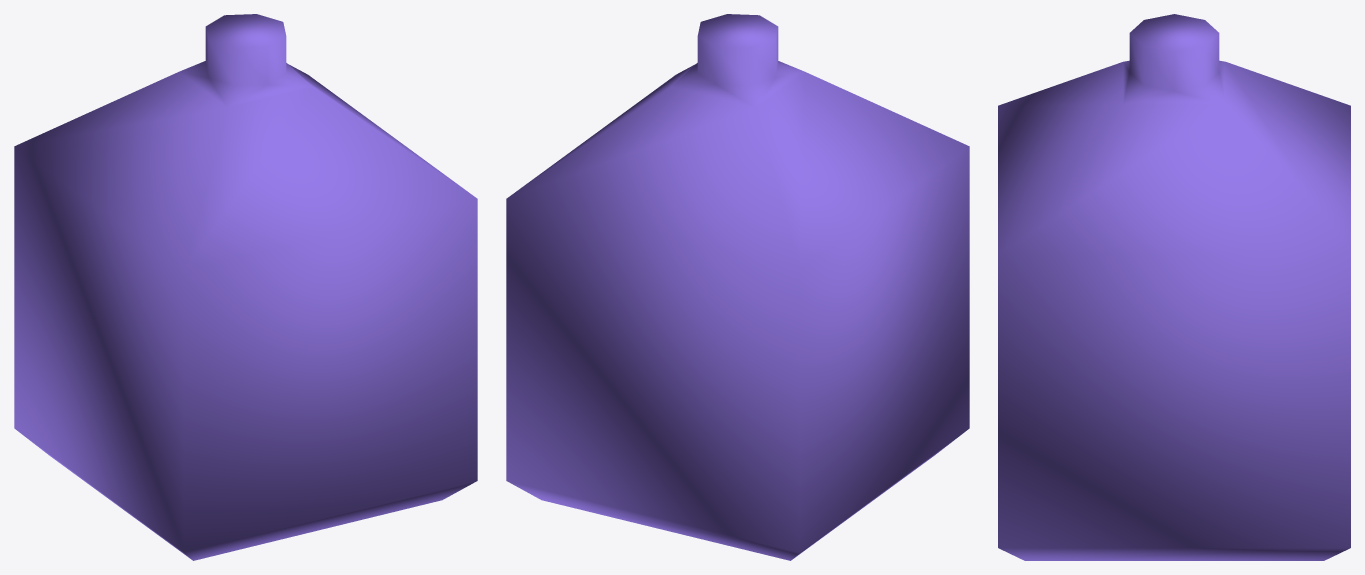
File: bottle1_lowpoly_liquid.fbx
3 renders of one model, left to right at view 1: azimuth 30°, elevation 25°; view 2: azimuth 150°, elevation 25°; view 3: azimuth 270°, elevation 25°, orthographic. The views are drawn at different scales.
Parts seen in each view (by area): view 1: bottle1.lowpoly.liquid; view 2: bottle1.lowpoly.liquid; view 3: bottle1.lowpoly.liquid.
Part boxes in pixels (<box>): bottle1.lowpoly.liquid: <box>14,14,477,560</box>; bottle1.lowpoly.liquid: <box>506,14,969,560</box>; bottle1.lowpoly.liquid: <box>998,14,1350,560</box>.
Size of the model in its own units: 6.73 by 9.79 by 6.73.
